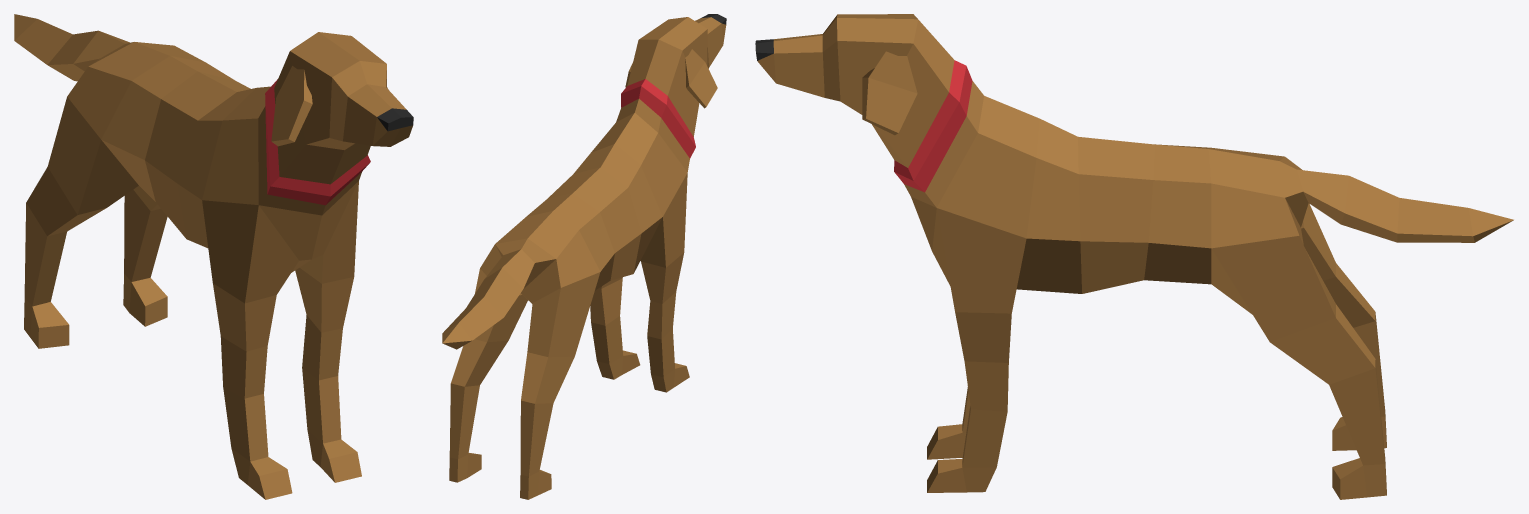
The model's file is dog.glb.
The picture shows the model from 3 angles, left to right: view 1: azimuth 30°, elevation 25°; view 2: azimuth 150°, elevation 25°; view 3: azimuth 270°, elevation 25°; orthographic projection. The views are drawn at different scales.
Parts seen in each view (by area): view 1: dog; view 2: dog; view 3: dog.
Part boxes in pixels (bbox=[...]): dog: bbox=[14, 14, 413, 499]; dog: bbox=[442, 14, 726, 499]; dog: bbox=[755, 14, 1513, 499].
Bounding box in the file's own units: 0.2006 × 0.6544 × 0.9944.
1 material, 1 textured.
